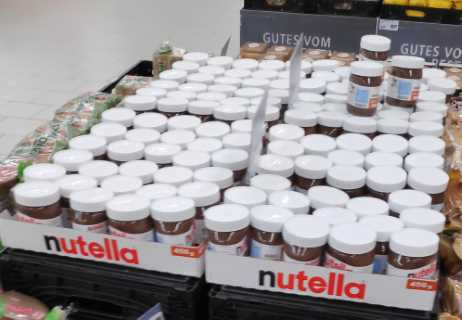nutella: (323, 223, 377, 286), (386, 228, 439, 290), (106, 194, 153, 251), (13, 180, 63, 233), (203, 202, 249, 256), (150, 195, 196, 248), (346, 60, 384, 118), (386, 53, 424, 108)
